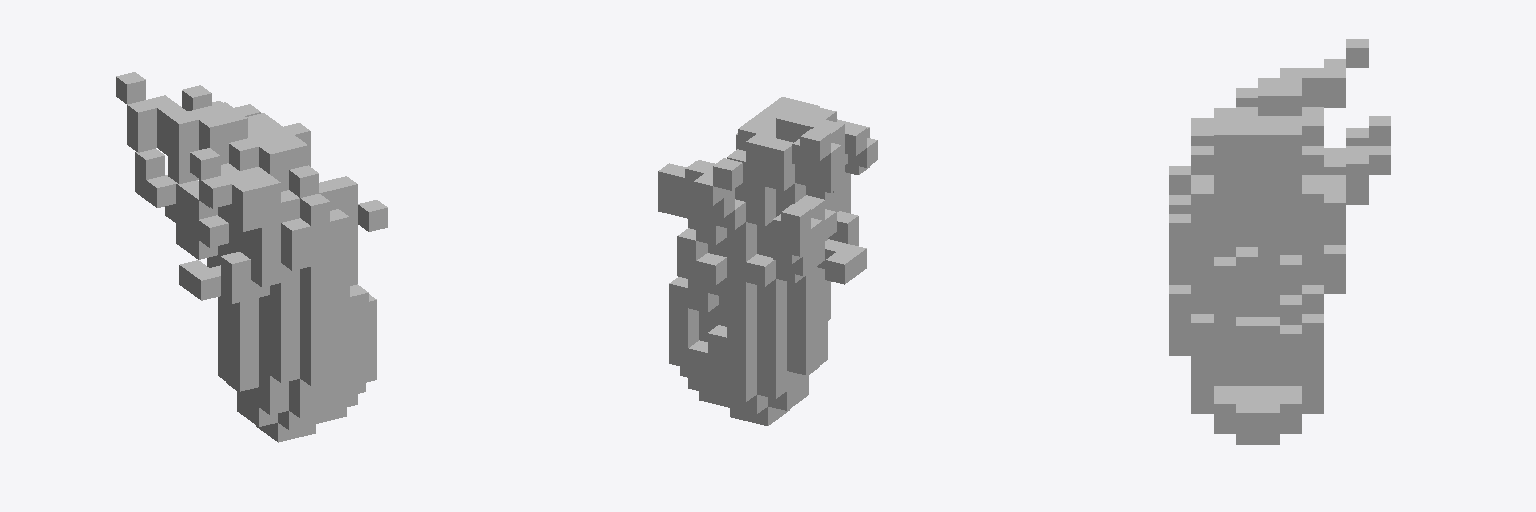
Rendered from DaedraArmorChestplateArmRight.obj.
3 renders of one model, left to right at view 1: azimuth 30°, elevation 25°; view 2: azimuth 150°, elevation 25°; view 3: azimuth 270°, elevation 25°, orthographic.
Visible parts, largest first — view 1: object 1; view 2: object 1; view 3: object 1.
Boxes of the visible parts, box(x1,y1,x2,y2) form: object 1: box(116, 72, 387, 442); object 1: box(658, 97, 877, 425); object 1: box(1169, 39, 1390, 444).
Bounding box in the file's own units: 1 × 1.7 × 1.